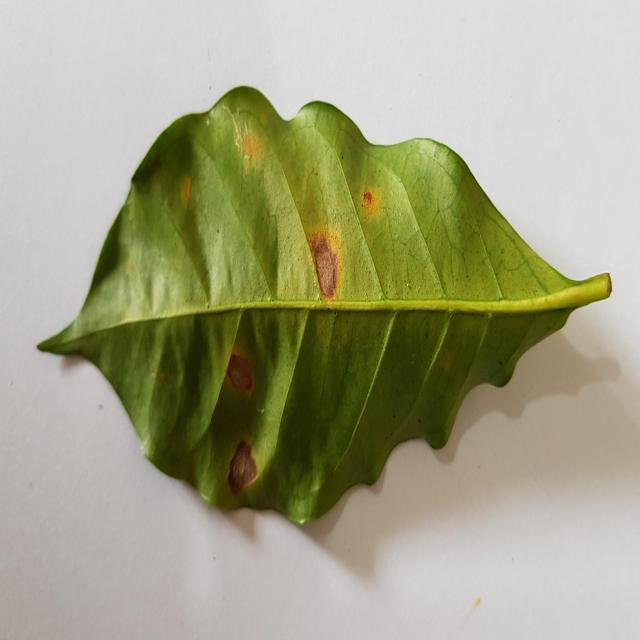Enfermedad-Mancha-de-hierro: (36, 86, 614, 535)
